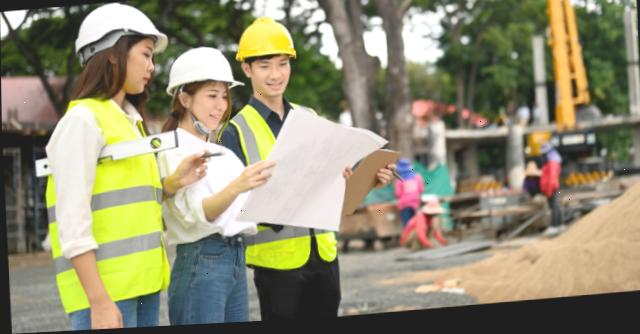helmet: (67, 0, 166, 58), (160, 53, 232, 90), (237, 24, 290, 60)
vest: (39, 98, 157, 314), (234, 107, 318, 272)
